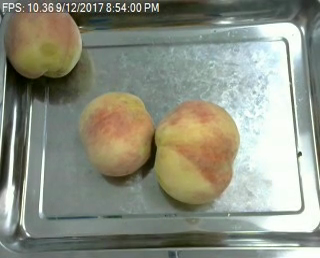Peach: (153, 99, 239, 205), (79, 91, 154, 178), (3, 1, 82, 79)
